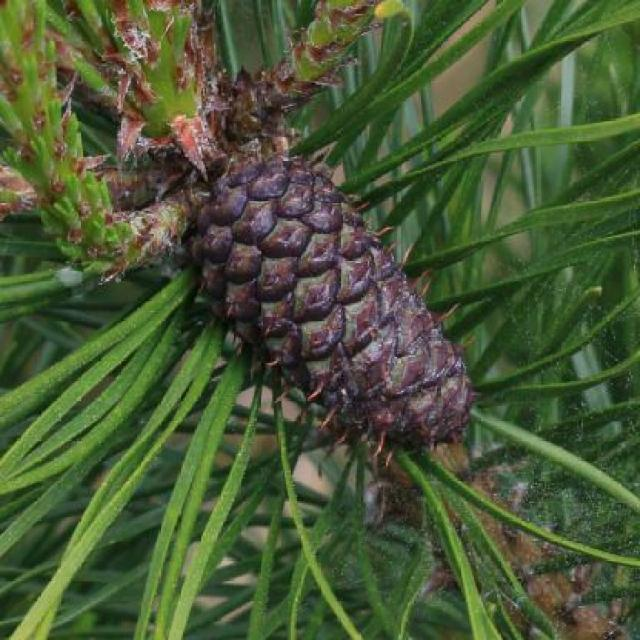Pineapple: (0, 0, 482, 466)
